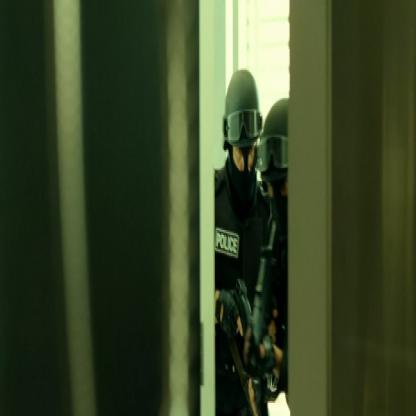Guns: (230, 212, 282, 414)
